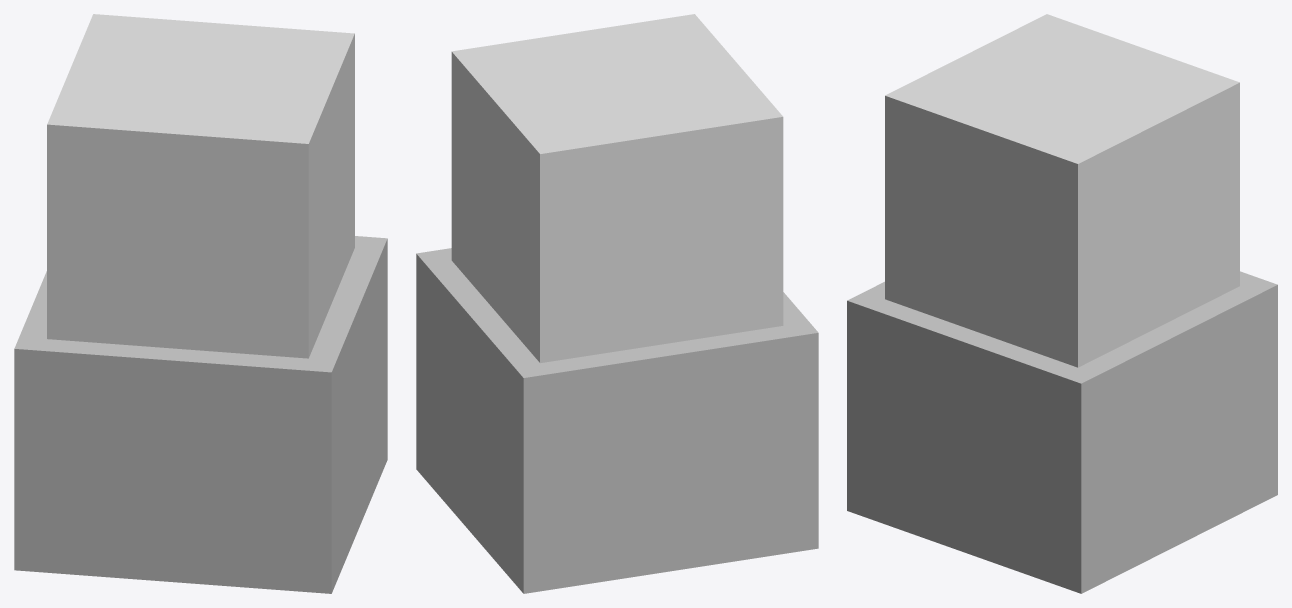
Rendered from Lupa.gltf.
The picture shows the model from 3 angles, left to right: view 1: azimuth 30°, elevation 25°; view 2: azimuth 150°, elevation 25°; view 3: azimuth 270°, elevation 25°; orthographic projection. The views are drawn at different scales.
Parts seen in each view (by area): view 1: Lupa; view 2: Lupa; view 3: Lupa.
Boxes of the visible parts, x1,y1,x2,y2 form: Lupa: [14, 14, 387, 593]; Lupa: [416, 14, 818, 593]; Lupa: [847, 14, 1277, 593].
Size of the model in its own units: 1.57 by 1.66 by 1.57.
Materials: 1 (1 with a texture image).
